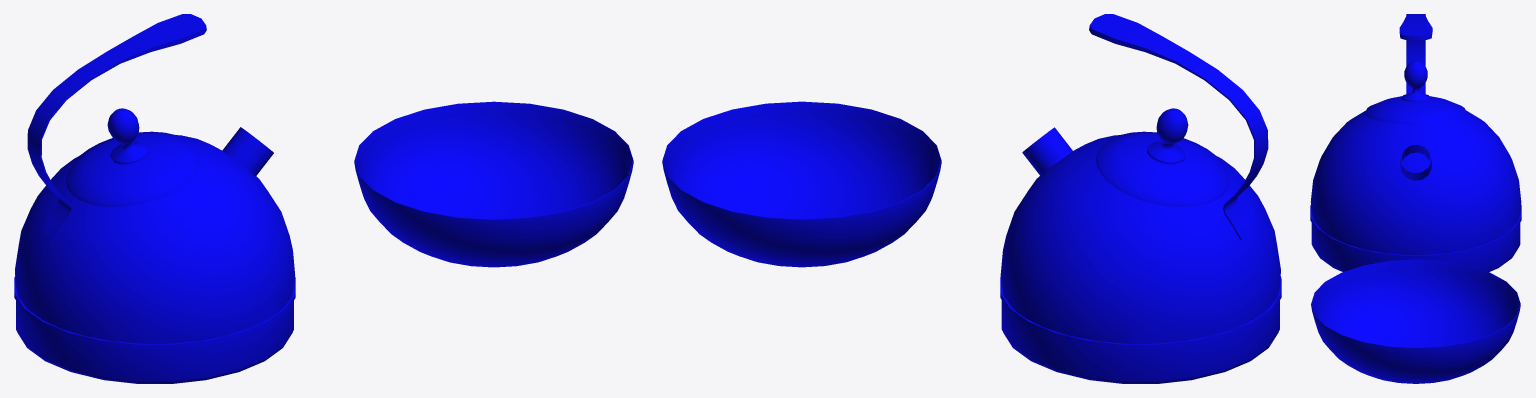
File: chainik.fbx
3 views of the same model, side by side, from view 1: azimuth 30°, elevation 25°; view 2: azimuth 150°, elevation 25°; view 3: azimuth 270°, elevation 25° (orthographic). The views are drawn at different scales.
Visible parts, largest first — view 1: chainik, miska; view 2: chainik, miska; view 3: chainik, miska.
Part boxes in pixels (x1,y1,x2,y2): chainik: [14, 14, 295, 383]; miska: [354, 101, 633, 267]; chainik: [1000, 14, 1281, 383]; miska: [662, 101, 941, 267]; chainik: [1310, 14, 1521, 271]; miska: [1311, 259, 1520, 383].
Size of the model in its own units: 0.5996 by 0.2949 by 0.2512.
